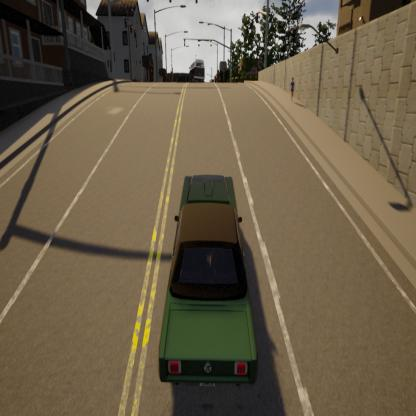Cars: (150, 127, 266, 405), (182, 58, 216, 96)
Pedestrian: (288, 66, 298, 103)
